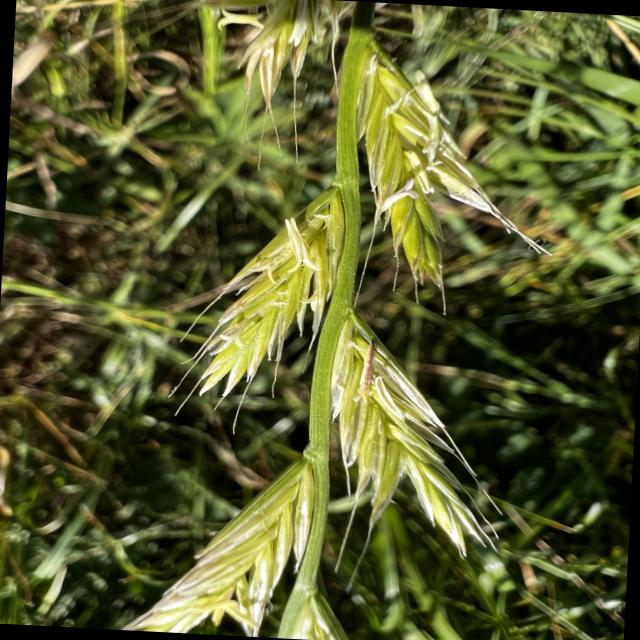Lolium: (119, 0, 579, 640)
